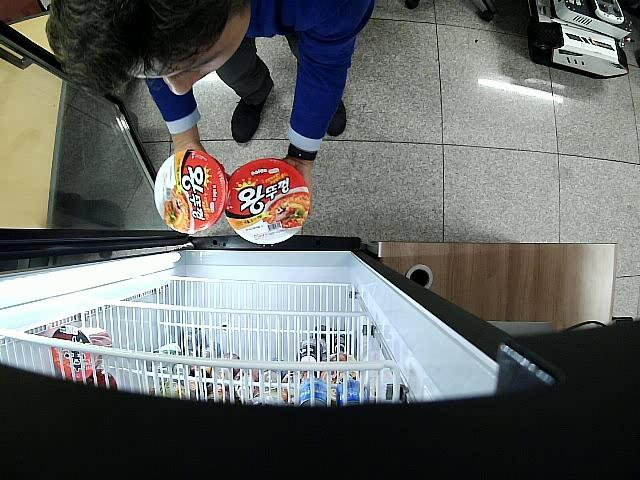10_wangTtukkeong: (225, 157, 310, 244), (154, 150, 229, 234)
